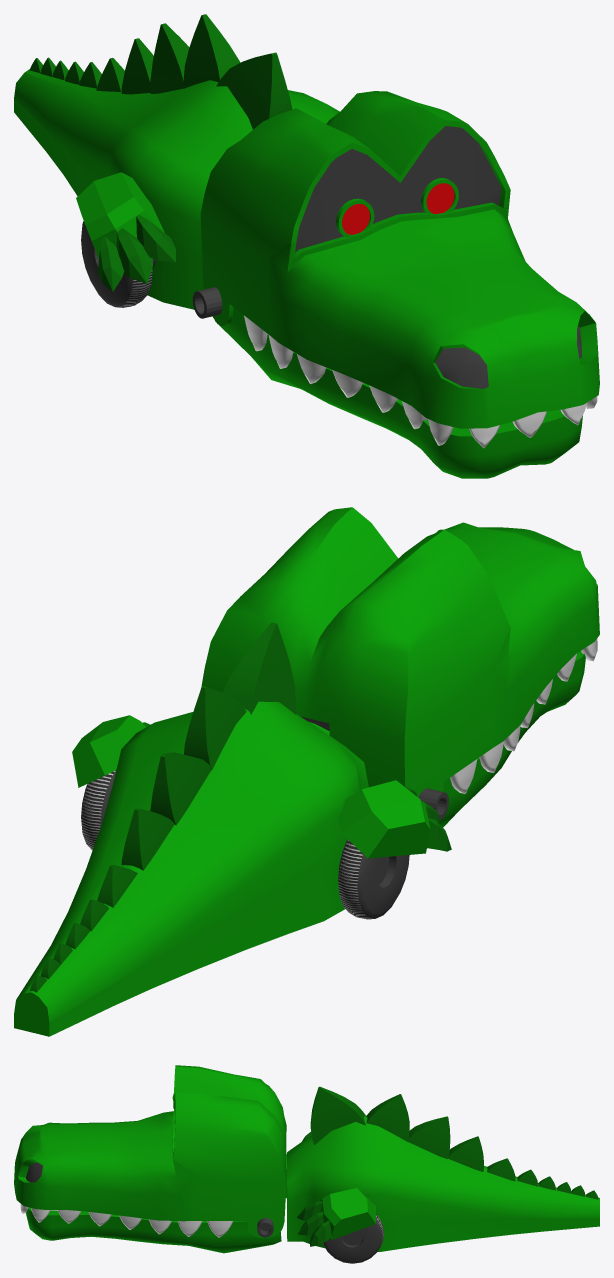
File: JareRobot.fbx
3 renders of one model, top to bottom at view 1: azimuth 30°, elevation 25°; view 2: azimuth 150°, elevation 25°; view 3: azimuth 270°, elevation 25°, orthographic. The views are drawn at different scales.
Parts seen in each view (by area): view 1: Head, Body, Hand_r; view 2: Body, Head, Hand_r, Hand_l; view 3: Body, Head, Hand_l, teeth.040.
Boxes of the visible parts, x1=… form: Head: x1=200, y1=91, x2=599, y2=428; Body: x1=14, y1=14, x2=582, y2=478; Hand_r: x1=76, y1=172, x2=175, y2=291; Body: x1=14, y1=622, x2=585, y2=1036; Head: x1=201, y1=507, x2=599, y2=797; Hand_r: x1=337, y1=780, x2=451, y2=858; Hand_l: x1=72, y1=715, x2=150, y2=787; Body: x1=26, y1=1086, x2=599, y2=1263; Head: x1=14, y1=1065, x2=286, y2=1238; Hand_l: x1=297, y1=1188, x2=376, y2=1246; teeth.040: x1=207, y1=1221, x2=233, y2=1237.
Bounding box in the file's own units: 658 × 481 × 1655.
